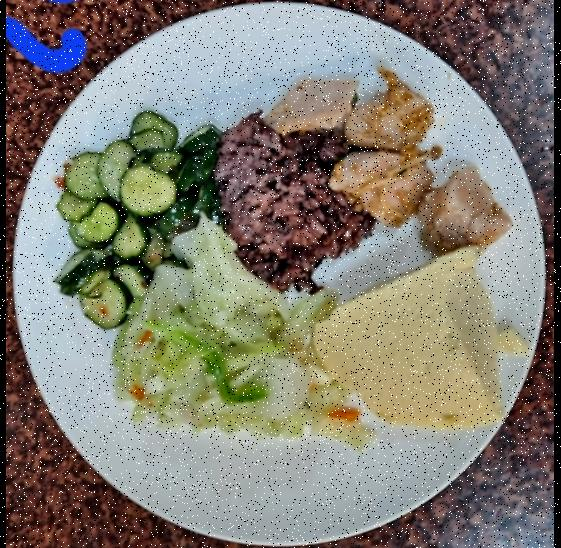big fried chicken leg: (15, 3, 548, 546)
braised fish: (208, 118, 374, 290)
braised fish fillet: (112, 215, 373, 450), (51, 107, 218, 328), (313, 252, 512, 432)
braised pork: (261, 69, 510, 256)
